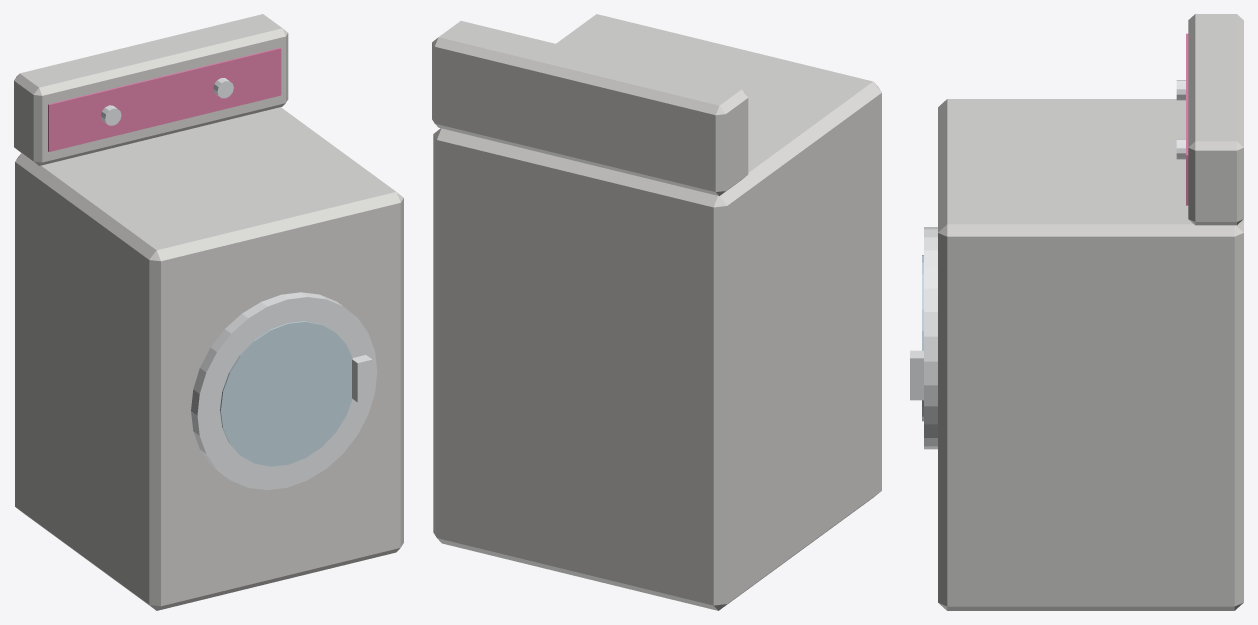
The model's file is dryer.glb.
The picture shows the model from 3 angles, left to right: view 1: azimuth 30°, elevation 25°; view 2: azimuth 150°, elevation 25°; view 3: azimuth 270°, elevation 25°; orthographic projection. The views are drawn at different scales.
Visible parts, largest first — view 1: dryer_enamel, dryer_glass, dryer_chrome, dryer_accent; view 2: dryer_enamel; view 3: dryer_enamel, dryer_chrome, dryer_accent.
Part boxes in pixels (left/top/right/bottom): dryer_enamel: left=14, top=14, right=403, bottom=610; dryer_glass: left=220, top=321, right=352, bottom=466; dryer_chrome: left=101, top=78, right=377, bottom=490; dryer_accent: left=48, top=48, right=281, bottom=151; dryer_enamel: left=432, top=14, right=881, bottom=610; dryer_enamel: left=938, top=14, right=1243, bottom=610; dryer_chrome: left=910, top=80, right=1185, bottom=449; dryer_accent: left=1186, top=33, right=1188, bottom=205.
Size of the model in its own units: 0.68 by 1.12 by 0.72.
